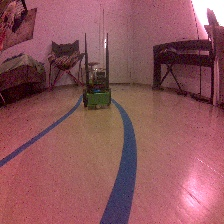rob: (82, 71, 112, 110)
